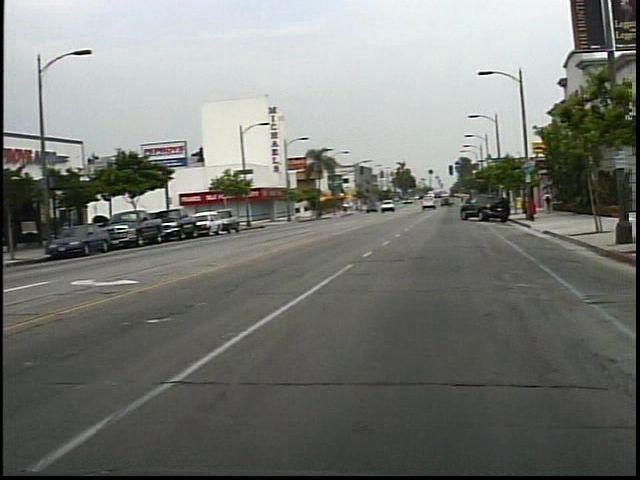person: (547, 189, 561, 216)
